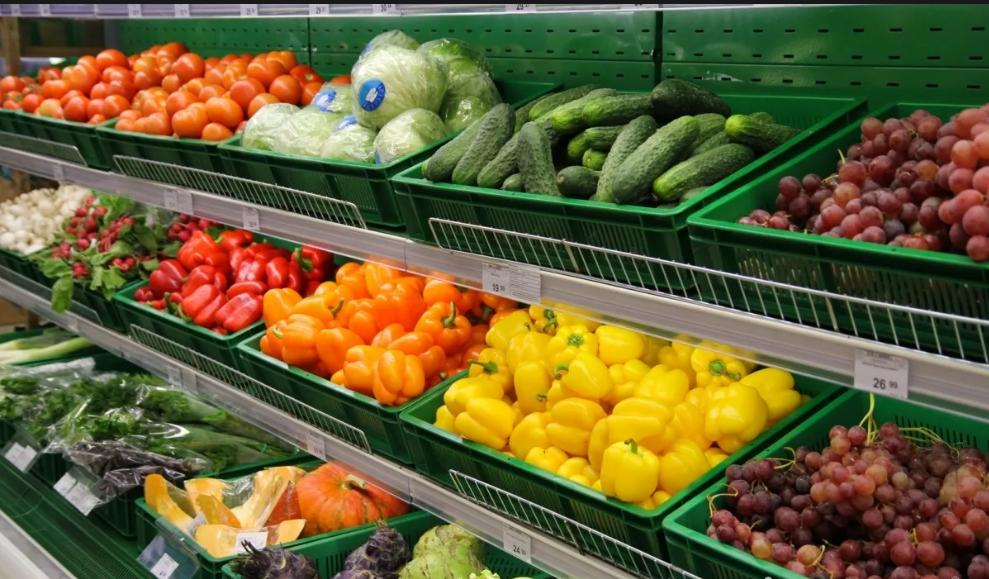cucumber: (424, 79, 808, 209)
grapes: (709, 424, 989, 579), (739, 105, 989, 264)
pumpkin: (141, 458, 415, 555)
sweet pepper: (434, 302, 802, 514), (262, 260, 502, 396), (138, 240, 334, 336)
tomato: (111, 52, 322, 142), (0, 42, 193, 124)
